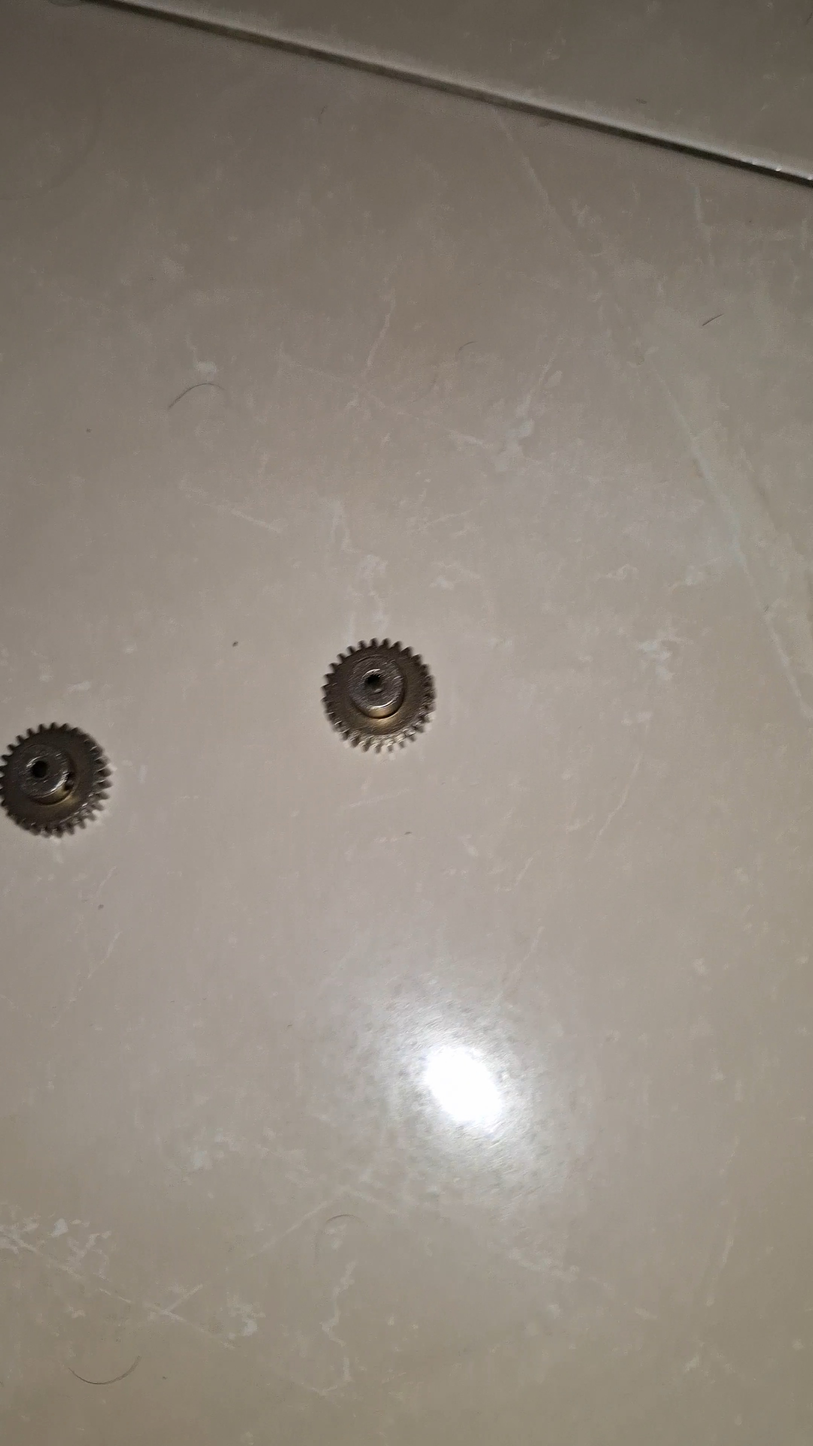spur gear: (323, 640, 435, 751), (0, 724, 110, 836)
